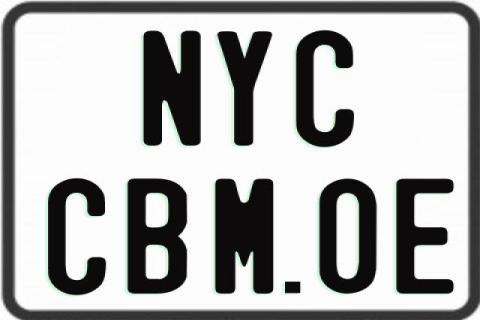0: (317, 178, 381, 294)
B: (126, 178, 188, 298)
C: (296, 29, 359, 150), (47, 177, 111, 296)
E: (394, 176, 452, 291)
M: (212, 178, 270, 294)
N: (140, 30, 199, 150)
Y: (214, 29, 273, 147)
